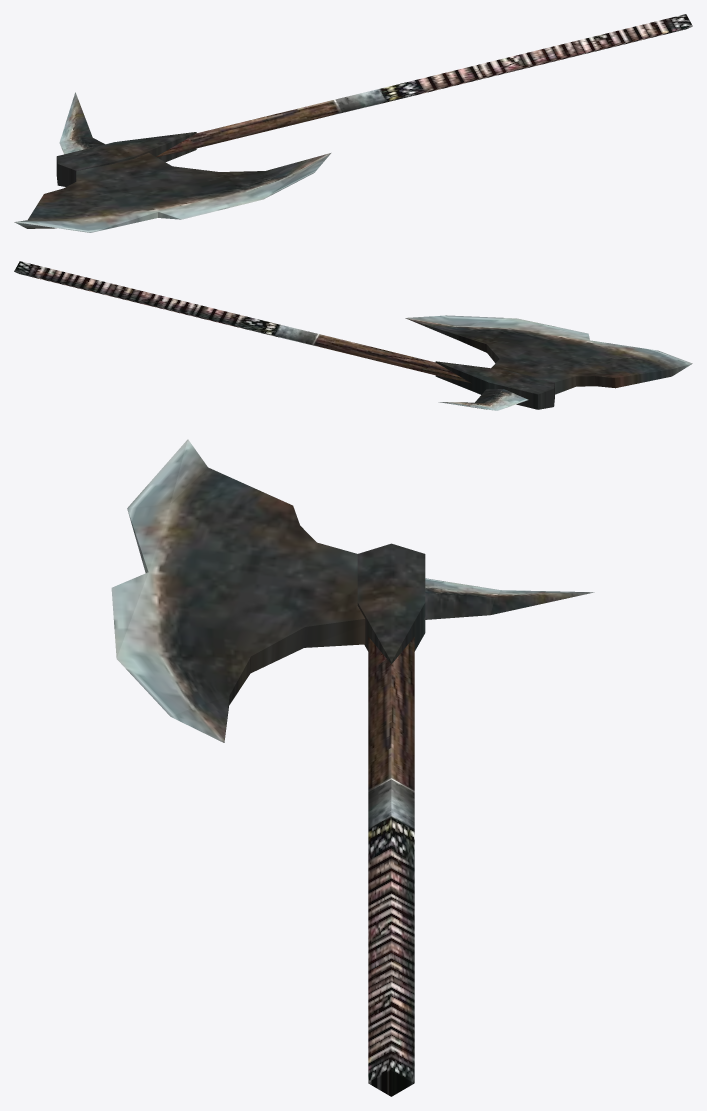
File: ITMW_025_2H_MISC_AXE_OLD_01.glb
3 views of the same model, one above another, from view 1: azimuth 30°, elevation 25°; view 2: azimuth 150°, elevation 25°; view 3: azimuth 270°, elevation 25° (orthographic). The views are drawn at different scales.
Visible parts, largest first — view 1: ITMW_025_2H_MISC_AXE_OLD_01; view 2: ITMW_025_2H_MISC_AXE_OLD_01; view 3: ITMW_025_2H_MISC_AXE_OLD_01.
Part boxes in pixels (box(x1,y1,x2,y2)): ITMW_025_2H_MISC_AXE_OLD_01: box(14, 14, 692, 232); ITMW_025_2H_MISC_AXE_OLD_01: box(14, 261, 692, 410); ITMW_025_2H_MISC_AXE_OLD_01: box(111, 439, 594, 1096).
Size of the model in its own units: 1.15 by 0.0487 by 0.3855.
2 materials, 2 textured.
